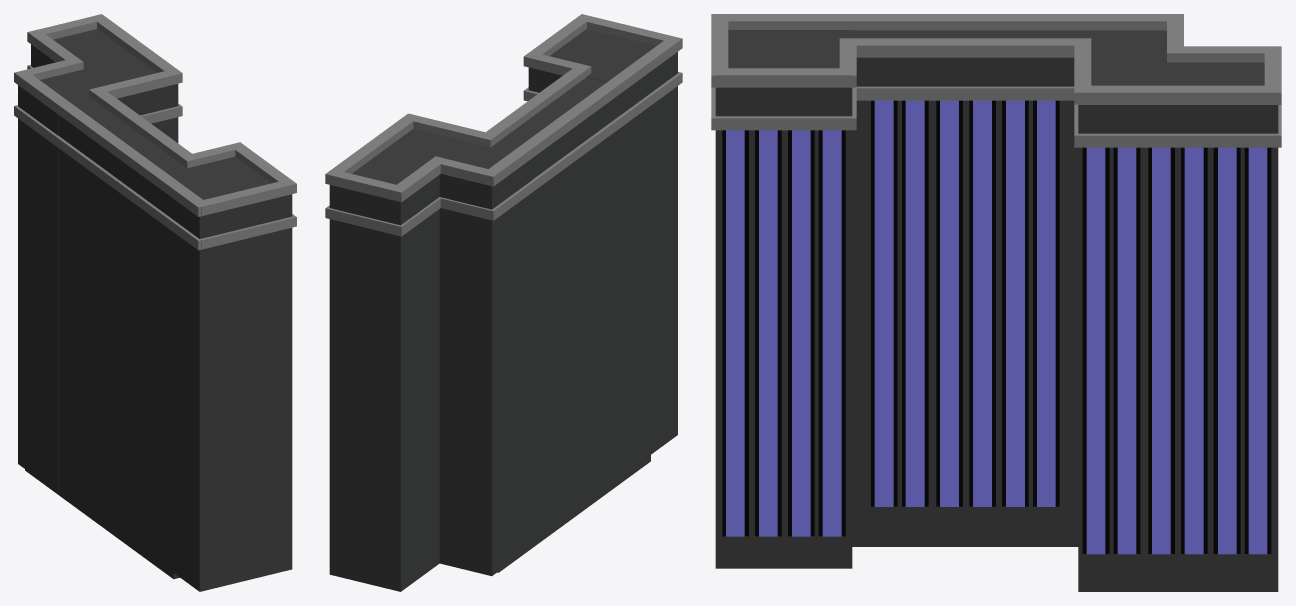
Rendered from Building3_New.fbx.
3 views of the same model, side by side, from view 1: azimuth 30°, elevation 25°; view 2: azimuth 150°, elevation 25°; view 3: azimuth 270°, elevation 25° (orthographic). The views are drawn at different scales.
Parts seen in each view (by area): view 1: Cube, Cube.002, Cube.001, Cube.006, Cube.021, Cube.008, Cube.003, Cube.005, Cube.011, Cube.009, Cube.022, Cube.013 (+5 smaller); view 2: Cube.003, Cube.001, Cube.002, Cube, Cube.006, Cube.021, Cube.008, Cube.011, Cube.009, Cube.005, Cube.013, Cube.012 (+6 smaller); view 3: Cube.002, Cube, Cube.001, Cube.003, Cube.038, Cube.037, Cube.041, Cube.042, Cube.026, Cube.045, Cube.046, Cube.035 (+34 smaller).
Part boxes in pixels (bbox=[...]): Cube: bbox=[146, 156, 292, 591]; Cube.002: bbox=[25, 74, 181, 579]; Cube.001: bbox=[18, 53, 178, 492]; Cube.006: bbox=[14, 70, 209, 216]; Cube.021: bbox=[14, 105, 209, 250]; Cube.008: bbox=[93, 89, 198, 167]; Cube.003: bbox=[31, 29, 129, 67]; Cube.005: bbox=[201, 181, 296, 216]; Cube.011: bbox=[90, 14, 180, 74]; Cube.009: bbox=[89, 71, 182, 100]; Cube.022: bbox=[201, 216, 296, 249]; Cube.013: bbox=[27, 29, 83, 71]; Cube.003: bbox=[329, 155, 439, 591]; Cube.001: bbox=[378, 128, 532, 575]; Cube.002: bbox=[459, 77, 650, 572]; Cube: bbox=[528, 29, 677, 474]; Cube.006: bbox=[482, 36, 682, 186]; Cube.021: bbox=[482, 72, 682, 220]; Cube.008: bbox=[483, 63, 590, 141]; Cube.011: bbox=[325, 114, 417, 184]; Cube.009: bbox=[407, 113, 497, 147]; Cube.005: bbox=[580, 14, 670, 45]; Cube.013: bbox=[390, 156, 446, 202]; Cube.012: bbox=[328, 172, 396, 199]; Cube.002: bbox=[852, 30, 1163, 546]; Cube: bbox=[715, 30, 852, 568]; Cube.001: bbox=[1078, 30, 1180, 591]; Cube.003: bbox=[1180, 62, 1278, 591]; Cube.038: bbox=[1184, 147, 1203, 554]; Cube.037: bbox=[1248, 147, 1267, 554]; Cube.041: bbox=[1117, 147, 1136, 554]; Cube.042: bbox=[1086, 147, 1105, 554]; Cube.026: bbox=[822, 130, 841, 536]; Cube.045: bbox=[874, 100, 893, 506]; Cube.046: bbox=[905, 100, 924, 506]; Cube.035: bbox=[1152, 147, 1170, 554].
Bounding box in the file's own units: 904 × 2694 × 2767.
